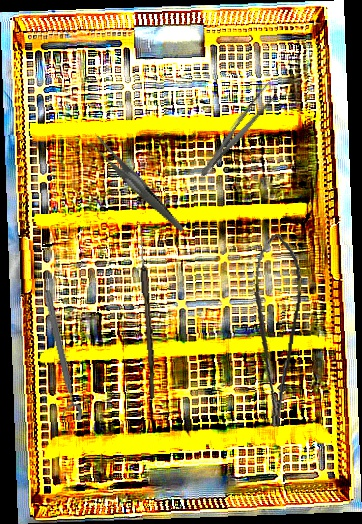Dressing Forceps: (88, 120, 184, 251), (194, 78, 283, 183)
Fixation Ring: (33, 288, 84, 425)
Micro Scissor: (235, 231, 310, 429)
Surgical Spoon: (135, 221, 159, 399)
